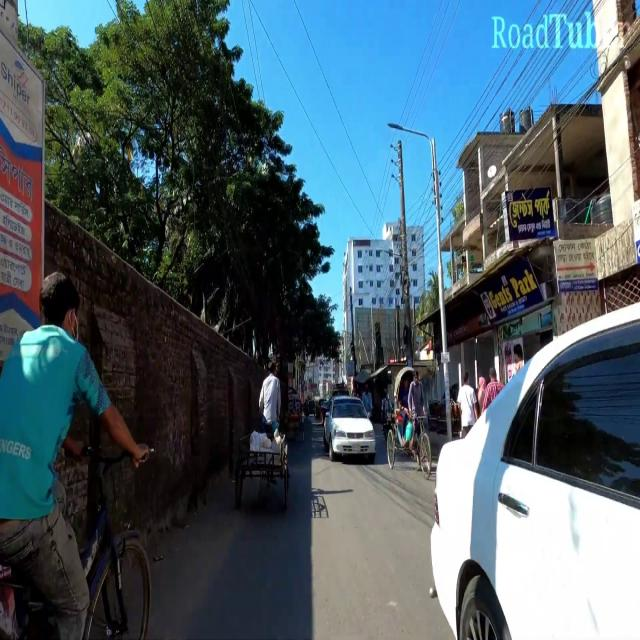white: (436, 296, 640, 640), (320, 384, 381, 478)
